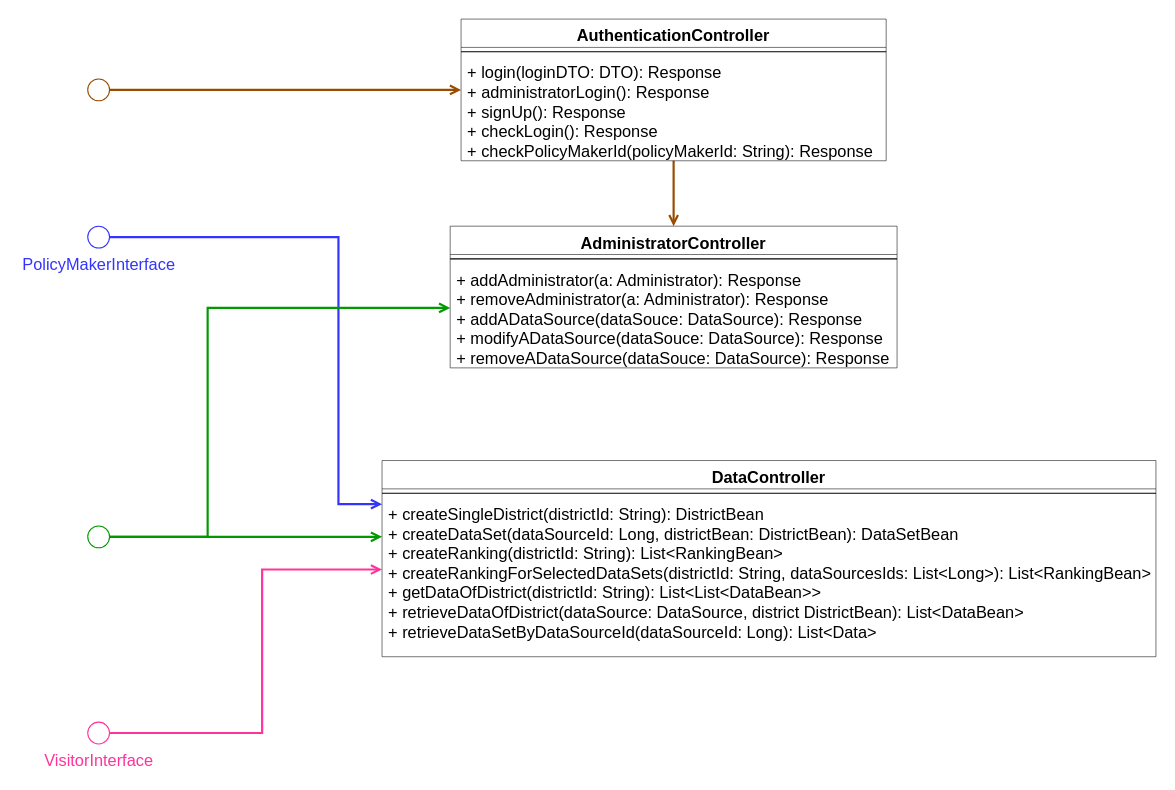
Some shapes in this 1175 by 790 pixel diagram are drawn without their labels. The shapes that lost their labels are listed below. From the top down, each one's centre as x and y in pixels, then its label:
At point 98,89: "LoginInterface".
At point 98,536: "AdministratorInterface".
